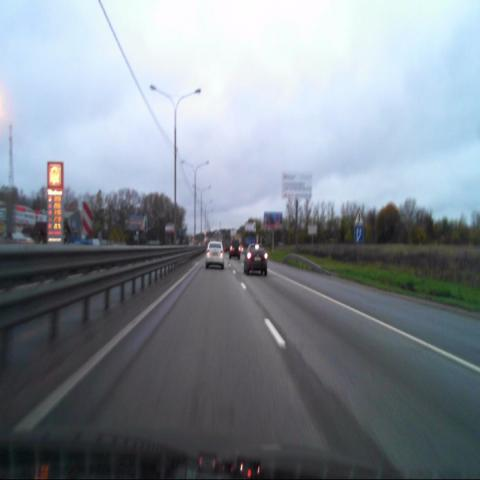2_3_2: (354, 208, 364, 226)
5_15_3: (354, 226, 364, 241)
